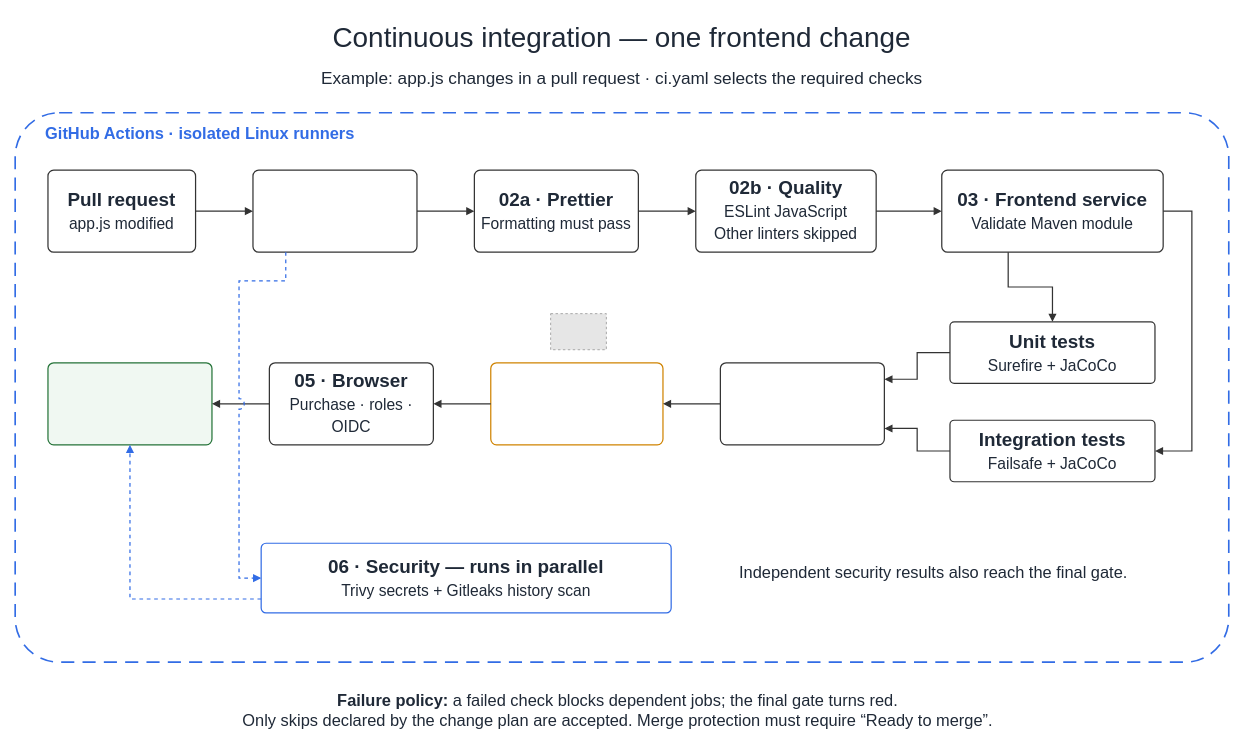
The diagram is 1243 pixels wide and 749 high, and some of its shapes have lost their labels. Grey dashed boxes stand in for pictures. The centre of each missing label's shape, as x and y in pixels:
"01 · Plan Select frontend Explain RUN / SKIP" belongs at point (334, 210).
"04 · Container Build · Trivy scan CycloneDX SBOM" belongs at point (576, 403).
"Ready to merge All required jobs pass" belongs at point (129, 403).
"Verified JAR Both test jobs pass Package + checksum" belongs at point (802, 403).
